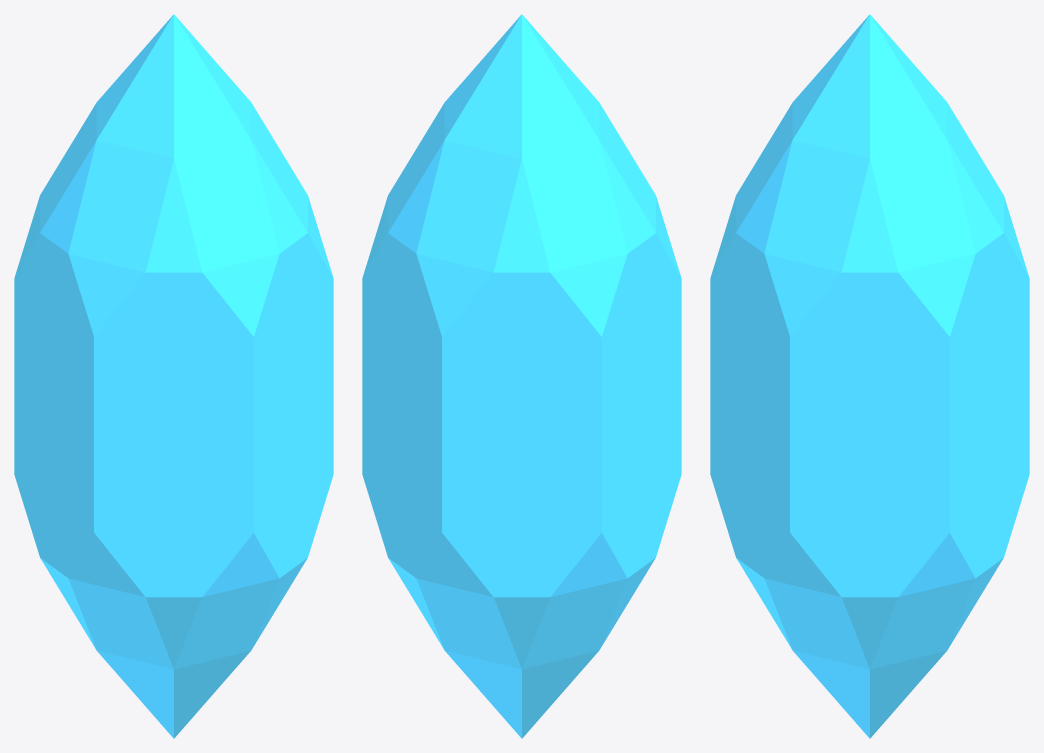
The model's file is IceCrystal.fbx.
3 views of the same model, side by side, from view 1: azimuth 30°, elevation 25°; view 2: azimuth 150°, elevation 25°; view 3: azimuth 270°, elevation 25° (orthographic).
Parts seen in each view (by area): view 1: IceCrystal; view 2: IceCrystal; view 3: IceCrystal.
Part boxes in pixels (box(x1,y1,x2,y2)): IceCrystal: box(14, 14, 333, 738); IceCrystal: box(362, 14, 681, 738); IceCrystal: box(710, 14, 1029, 738).
Size of the model in its own units: 124 by 359 by 143.
